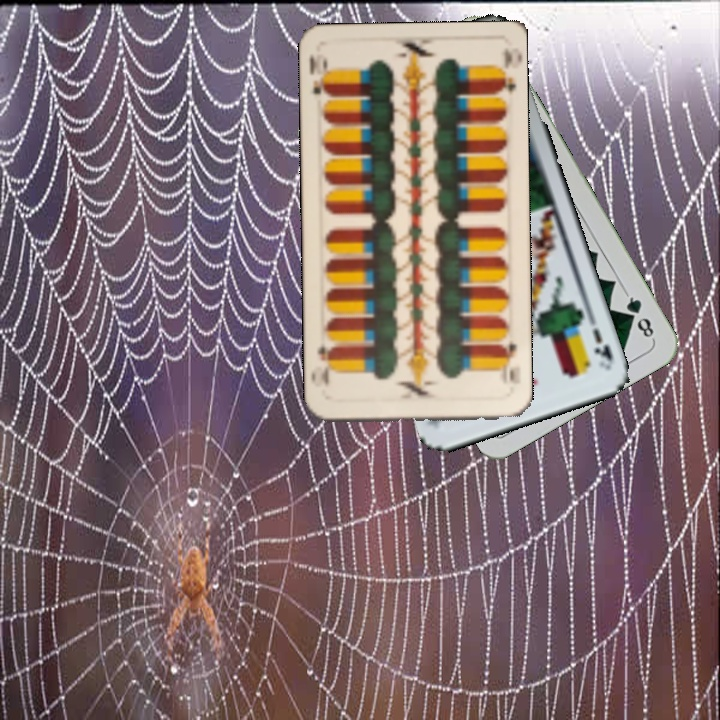E10: (306, 50, 333, 100), (496, 339, 519, 386)
EK: (588, 324, 616, 369)
G8: (621, 289, 657, 343)
